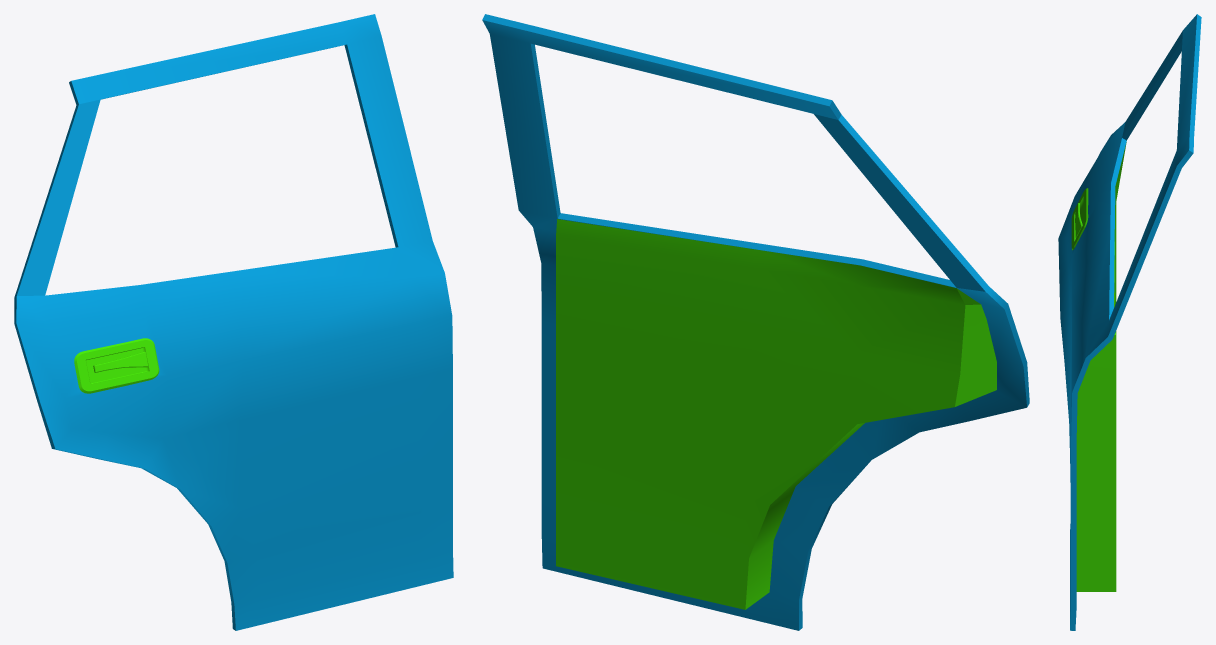
File: Car_Door_02B.fbx
3 views of the same model, side by side, from view 1: azimuth 30°, elevation 25°; view 2: azimuth 150°, elevation 25°; view 3: azimuth 270°, elevation 25° (orthographic). The views are drawn at different scales.
Visible parts, largest first — view 1: Car_Door_02B; view 2: Car_Door_02B; view 3: Car_Door_02B.
Boxes of the visible parts, <box> form: Car_Door_02B: <box>14,14,453,630</box>; Car_Door_02B: <box>482,14,1029,630</box>; Car_Door_02B: <box>1058,14,1201,630</box>.
Bounding box in the file's own units: 105 × 126 × 34.3.
